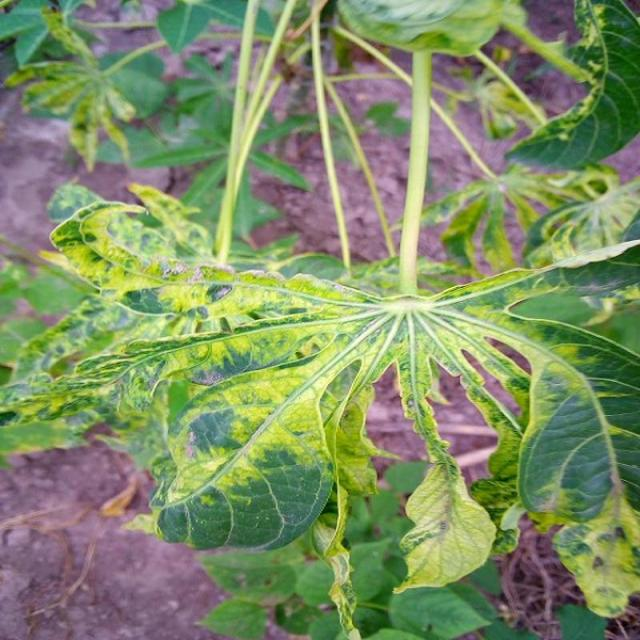Mosaico: (58, 177, 636, 500)
